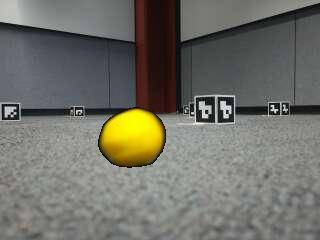lemon: (99, 109, 165, 167)
